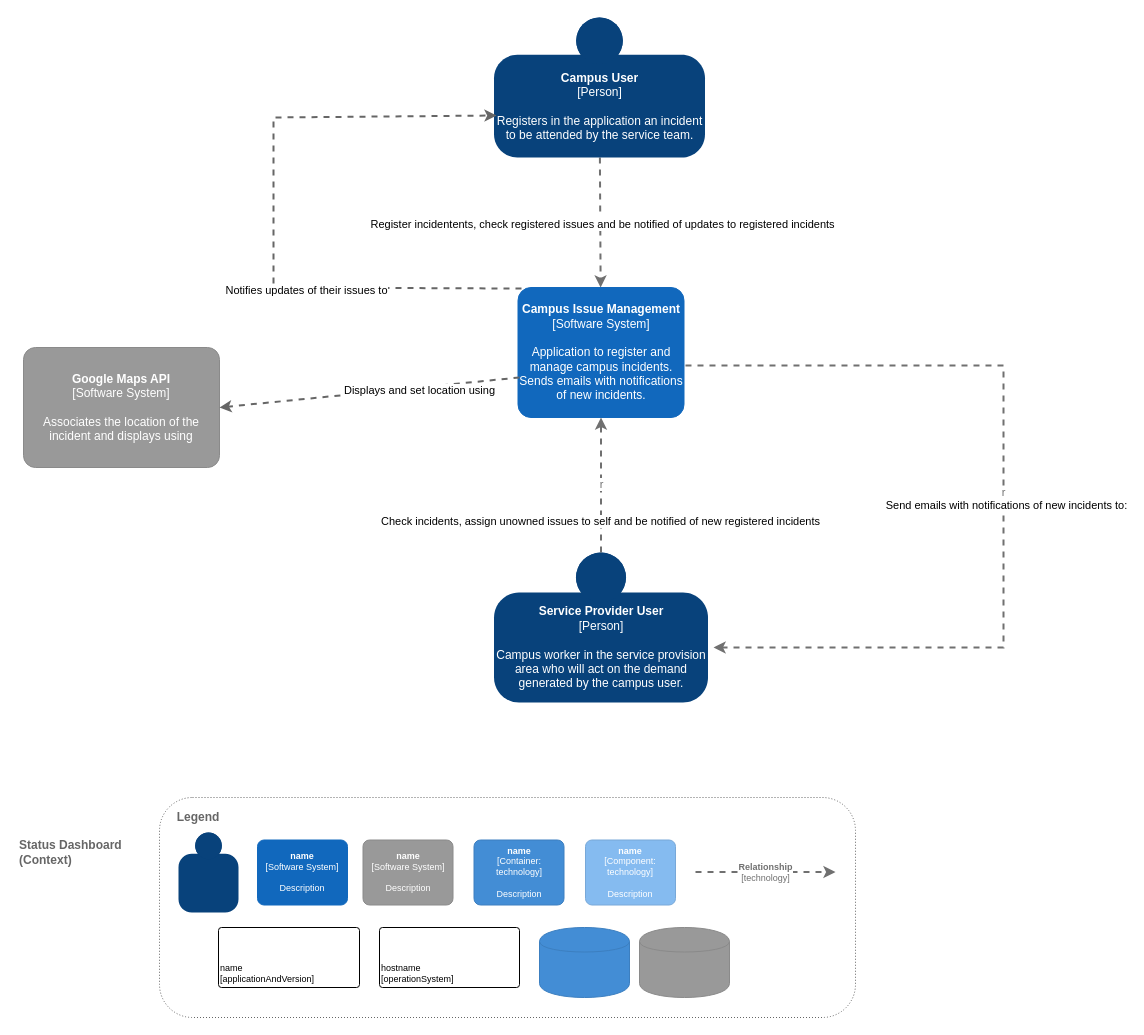
Some shapes in this 1144 by 1035 pixel diagram are drawn without their labels. Here are the shapes that lost their labels. From the top down, the box of each, then its label:
(178, 832, 238, 912): name [Person] Description
(538, 926, 630, 998): Database [Container: Technology] Description
(638, 926, 730, 998): Database [Container: Technology] External
